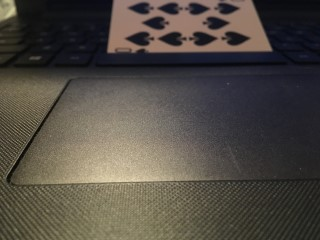TenOfSpades: (107, 1, 270, 51)
